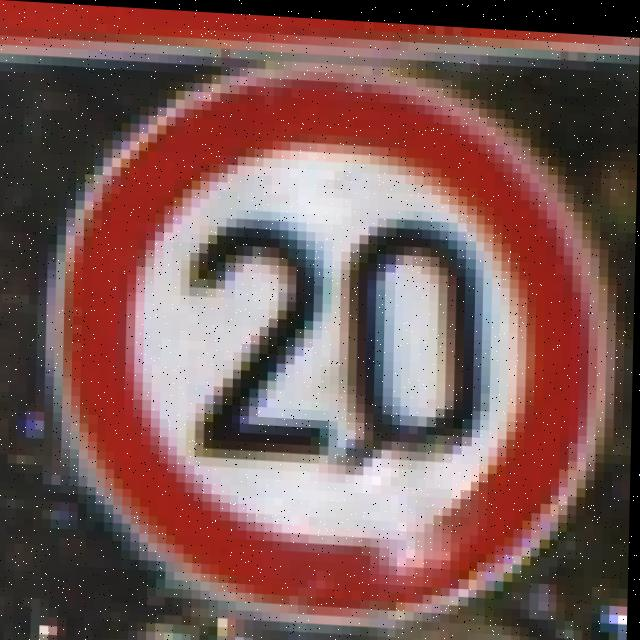speed_limit_20: (38, 53, 586, 640)
